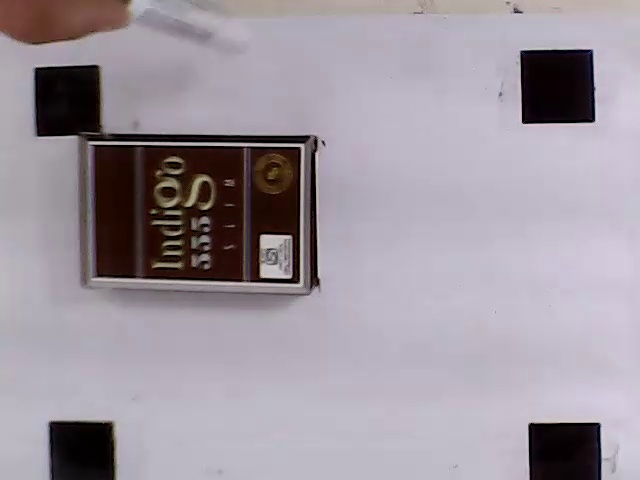BEX: (90, 145, 301, 283)
